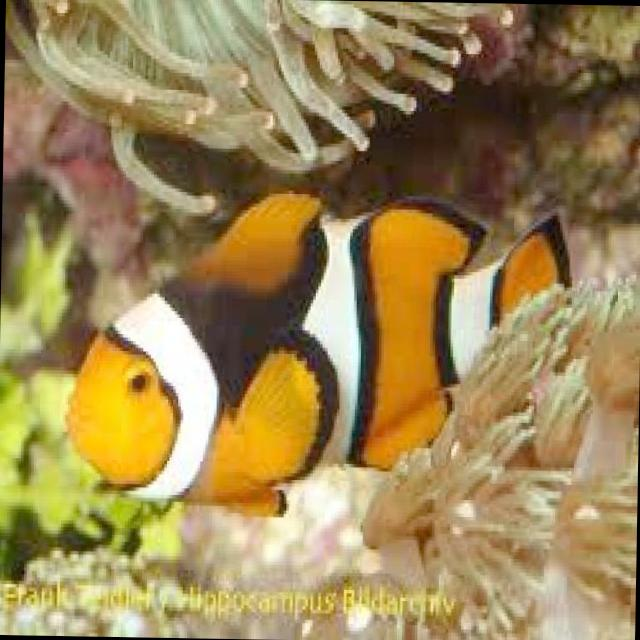ButterflyFish: (63, 187, 572, 526)
